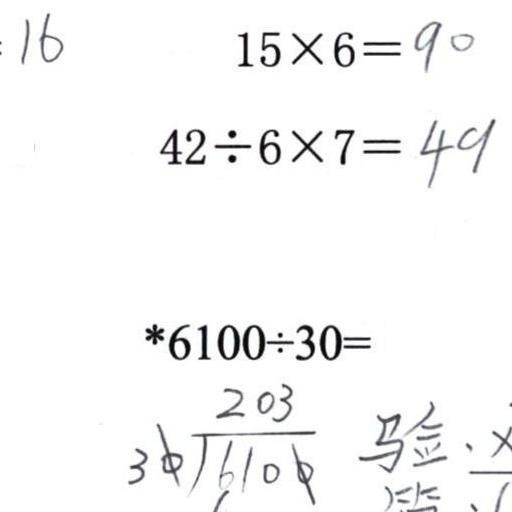ans: (414, 111, 494, 184), (408, 15, 474, 70), (14, 7, 63, 64)
